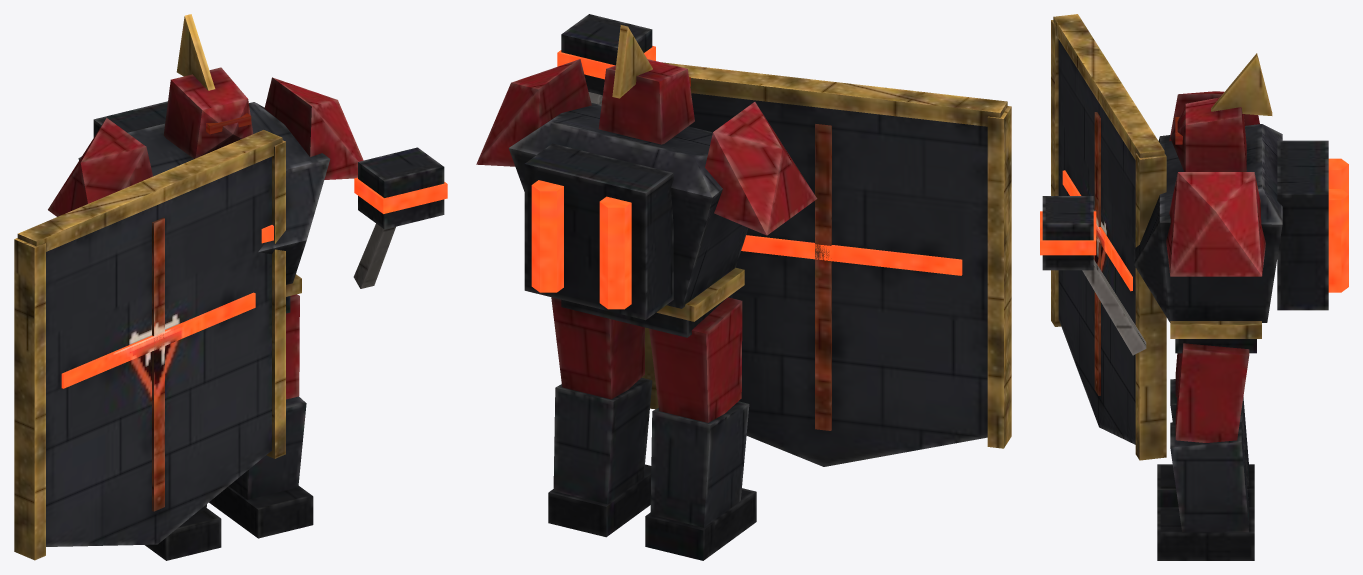
The model's file is u_sentinel3_e.glb.
The picture shows the model from 3 angles, left to right: view 1: azimuth 30°, elevation 25°; view 2: azimuth 150°, elevation 25°; view 3: azimuth 270°, elevation 25°; orthographic projection. The views are drawn at different scales.
Visible parts, largest first — view 1: u_sentinel3_e; view 2: u_sentinel3_e; view 3: u_sentinel3_e.
Part boxes in pixels (x1,y1,x2,y2): u_sentinel3_e: (14, 14, 447, 560); u_sentinel3_e: (476, 14, 1011, 560); u_sentinel3_e: (1040, 14, 1348, 560).
Bounding box in the file's own units: 2.34 × 2.65 × 1.57.
Materials: 1 (1 with a texture image).
